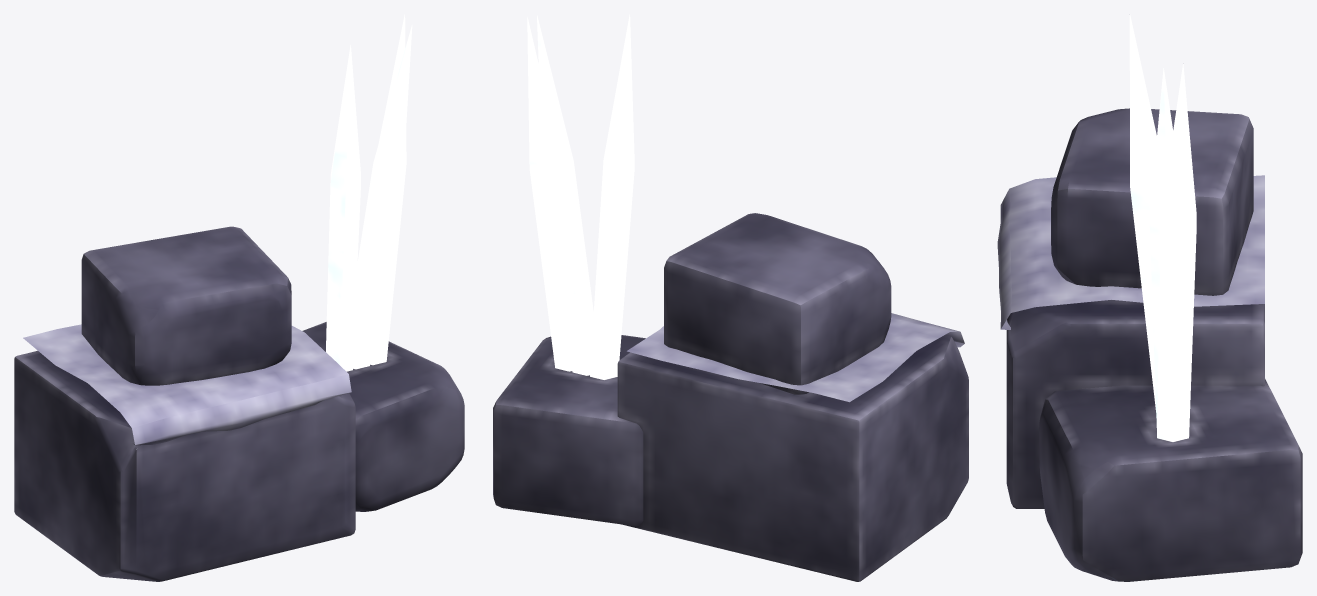
Rendered from Promenade_Prop_B.fbx.
3 views of the same model, side by side, from view 1: azimuth 30°, elevation 25°; view 2: azimuth 150°, elevation 25°; view 3: azimuth 270°, elevation 25° (orthographic). The views are drawn at different scales.
Visible parts, largest first — view 1: Promenade_Prop_B; view 2: Promenade_Prop_B; view 3: Promenade_Prop_B.
Boxes of the visible parts, x1=… form: Promenade_Prop_B: x1=14, y1=14, x2=464, y2=581; Promenade_Prop_B: x1=493, y1=14, x2=968, y2=581; Promenade_Prop_B: x1=997, y1=14, x2=1302, y2=581.
Bounding box in the file's own units: 1.05 × 1.18 × 0.625.
